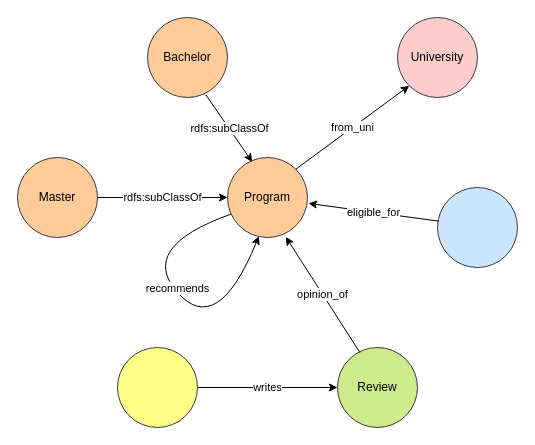
Some shapes in this 535 by 445 pixel diagram are drawn without their labels. The shapes that lost their labels are listed below. From the top down, each one's box as (x1, y1, x2, y2) in pixels, then its label:
(436, 186, 518, 268): Scholarship
(116, 346, 198, 428): User
